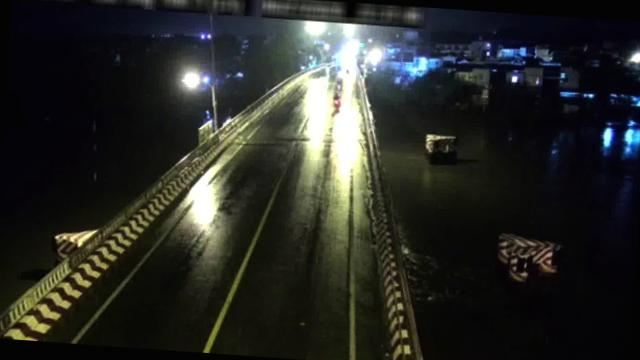Bike: (329, 91, 342, 113)
